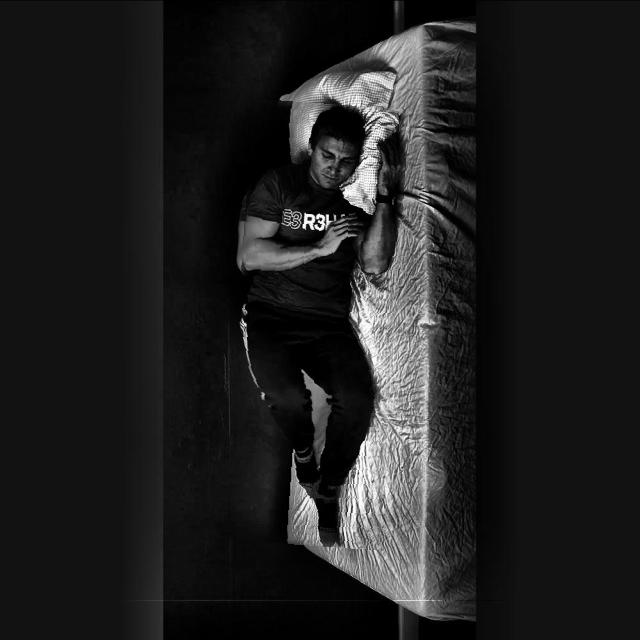Not_Supine: (241, 105, 406, 547)
